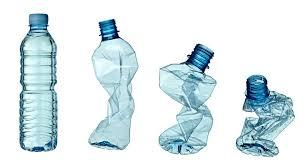Plastic: (159, 38, 217, 160), (91, 16, 139, 156), (20, 13, 58, 152), (237, 77, 294, 161)
